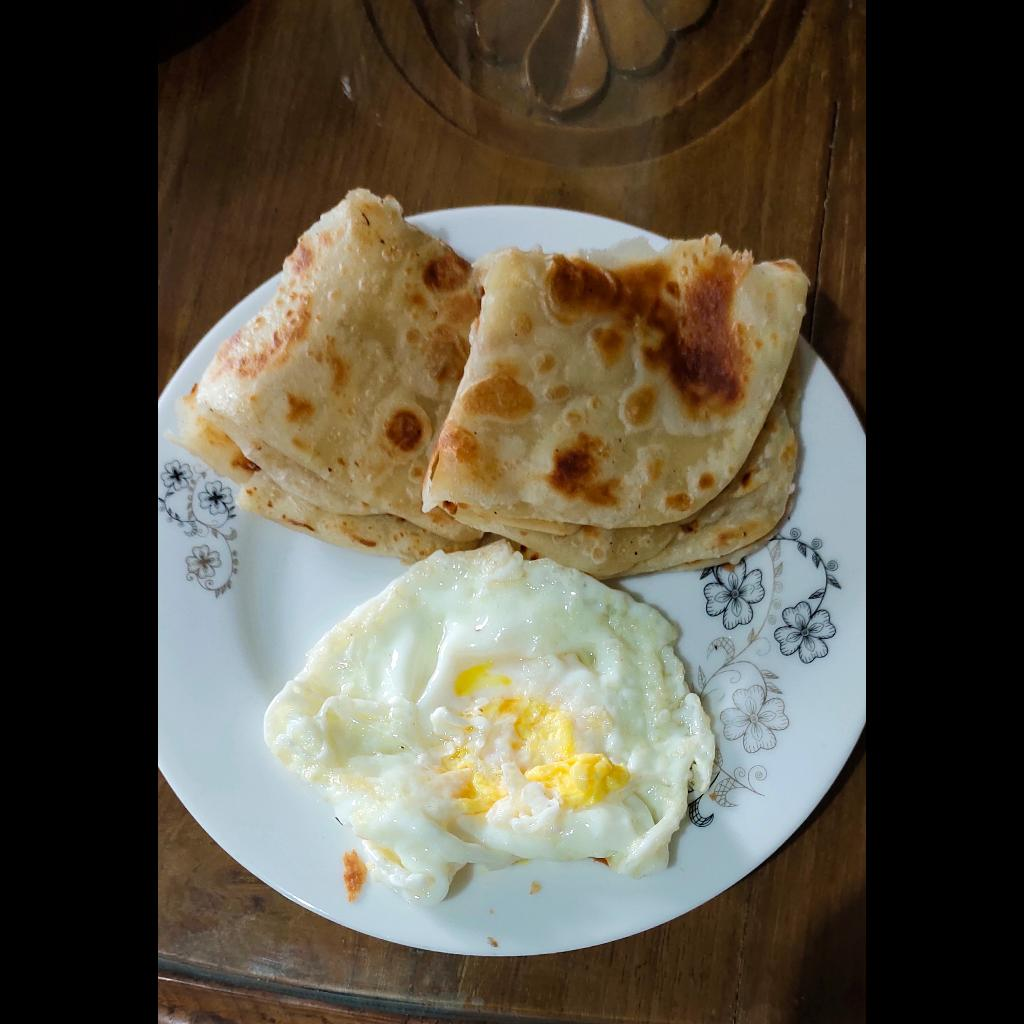egg-poached: (260, 546, 720, 913)
ruti: (176, 185, 809, 583)
